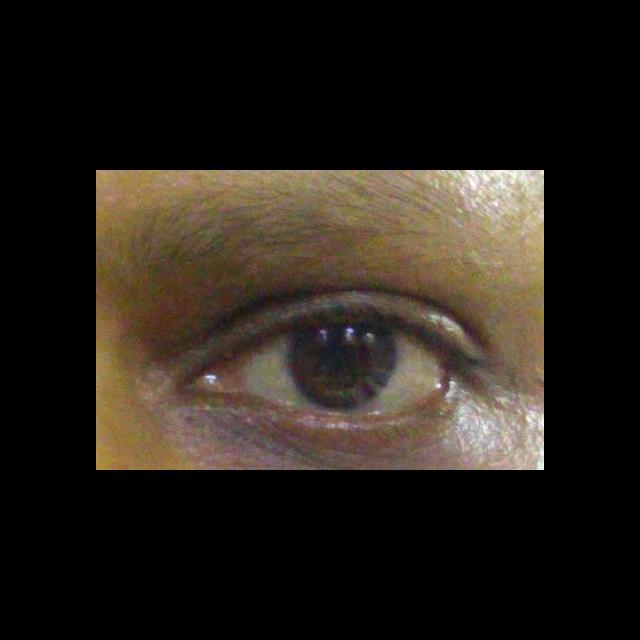eye: (240, 318, 444, 416)
iris: (288, 324, 399, 409)
